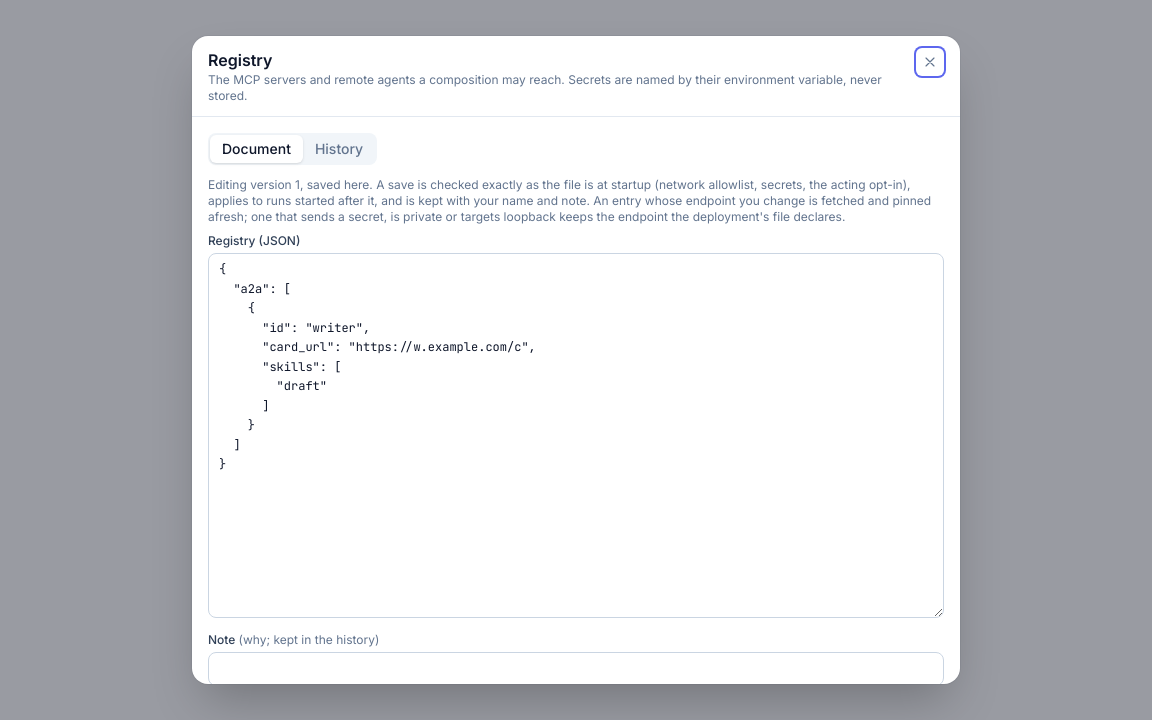
it: RegistryDialog › keeps the history listed when one version cannot be read
What coordinates should you click on to do the following:
click the tab "History"
I would click on:
 (339, 149)
Its box is [303, 135, 375, 163].
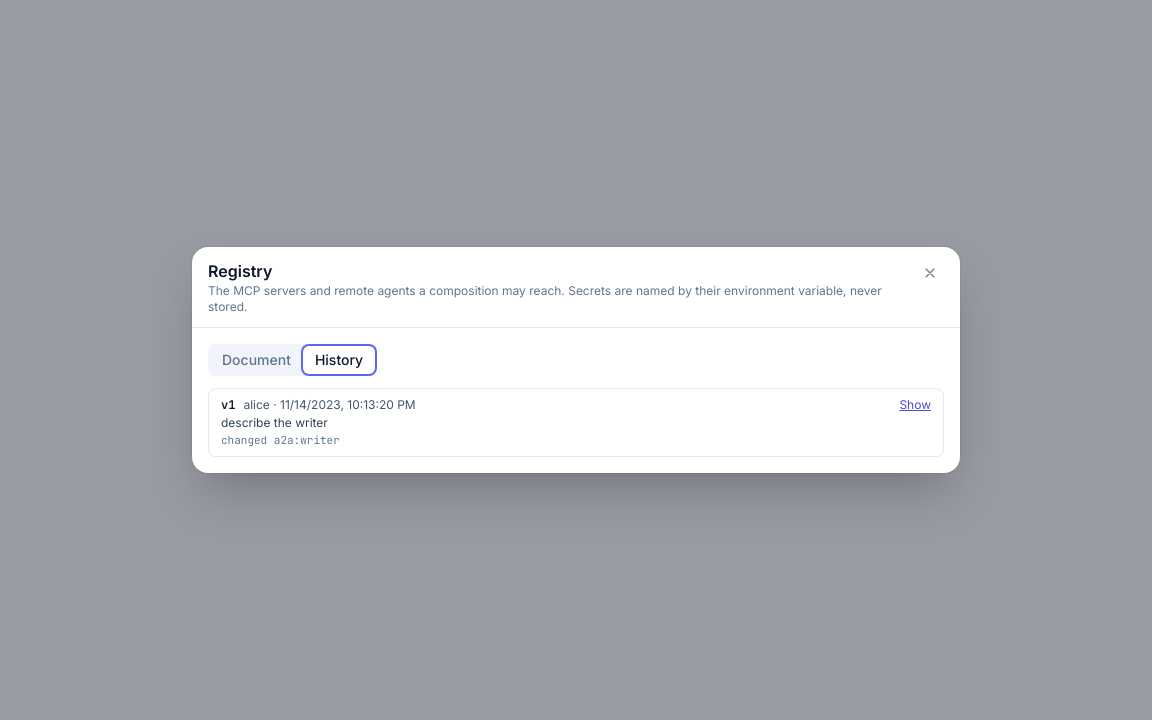
What coordinates should you click on to do the following:
click the button with aria-label "Show version 1"
I would click on:
 (915, 405)
Its box is [899, 397, 931, 413].
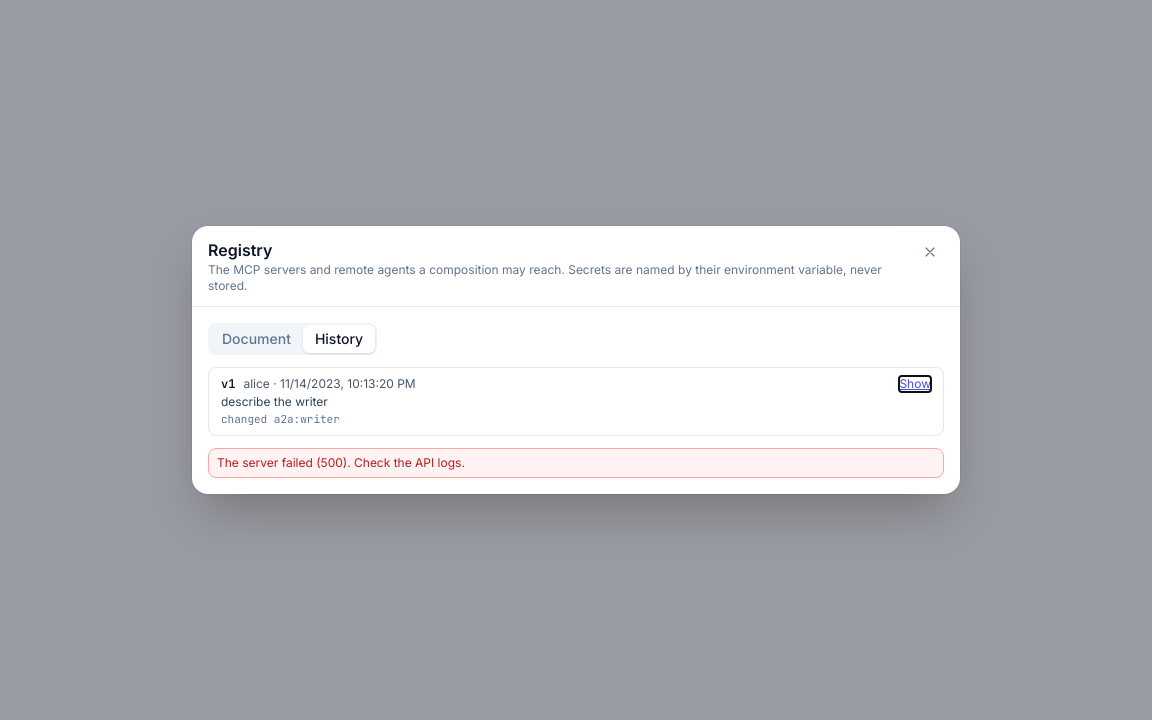
Expected: the text "describe the writer" is shown, [221, 394, 328, 409]
Expected: the message "The server failed (500). Check the API logs." is shown, [208, 448, 944, 478]
